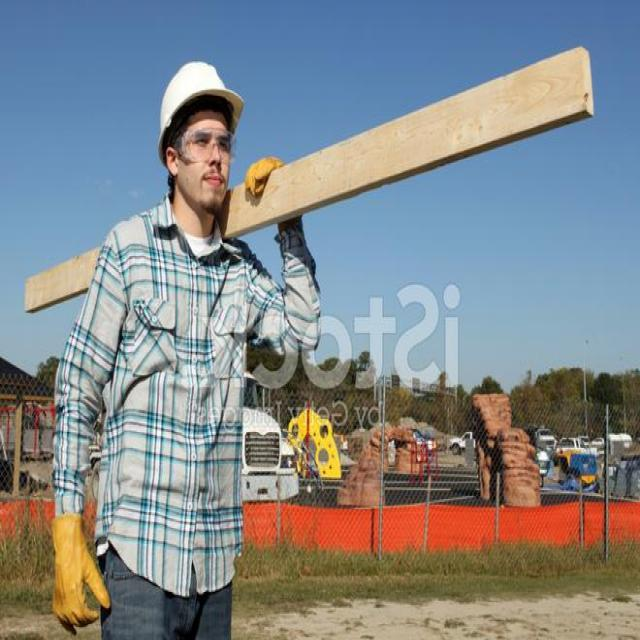Helmet: (152, 61, 247, 211)
NoVest: (86, 211, 261, 541)
